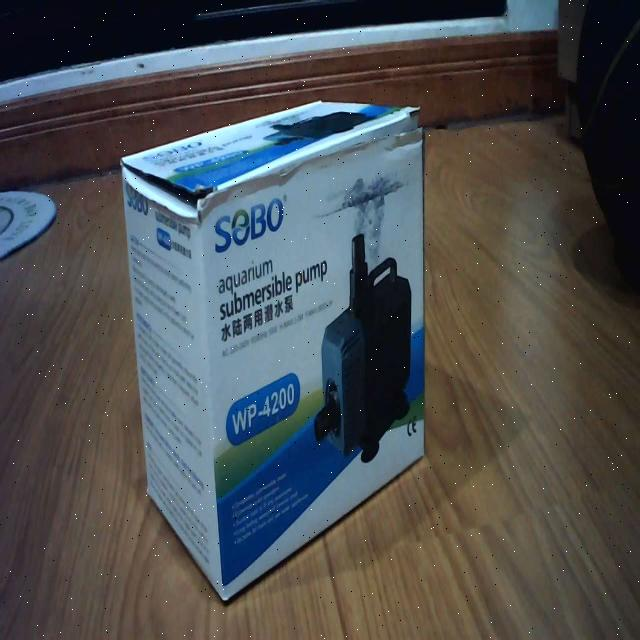SOBO_WP_4200: (116, 87, 440, 613)
